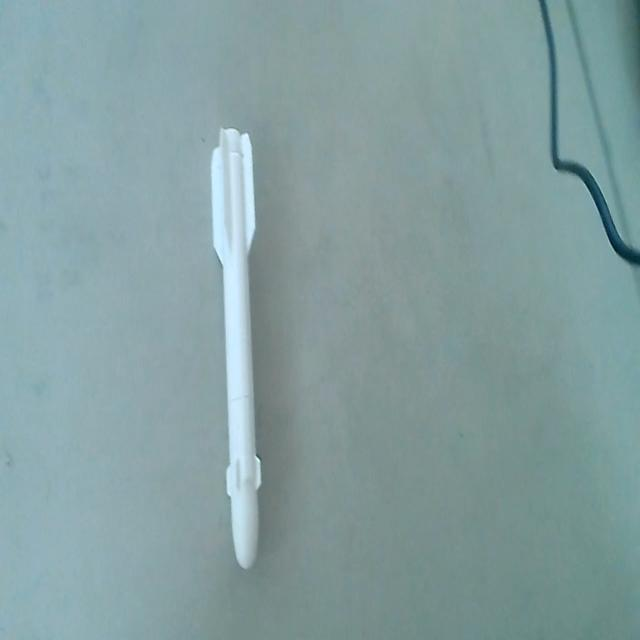Rocket: (206, 126, 264, 580)
